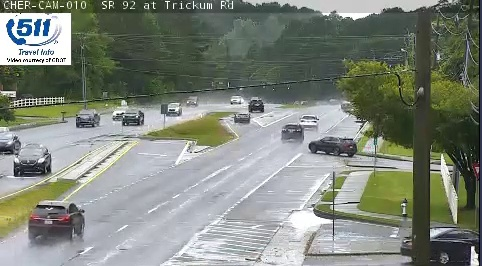car: (29, 200, 85, 237), (282, 124, 303, 140), (301, 114, 317, 129), (233, 112, 250, 124)
